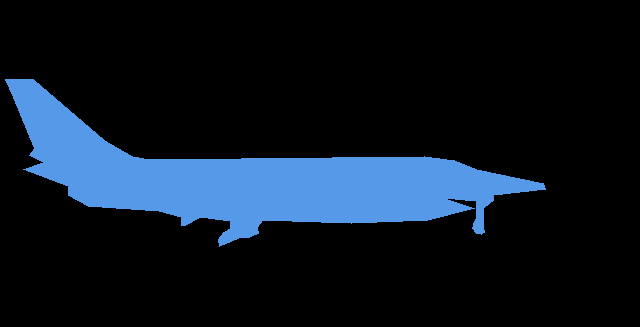Airplane: (5, 79, 545, 247)
